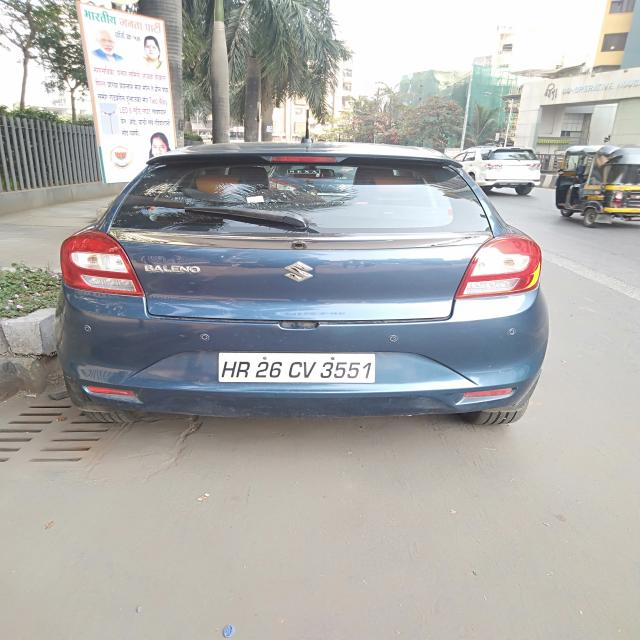Number-Plate: (220, 353, 374, 385)
